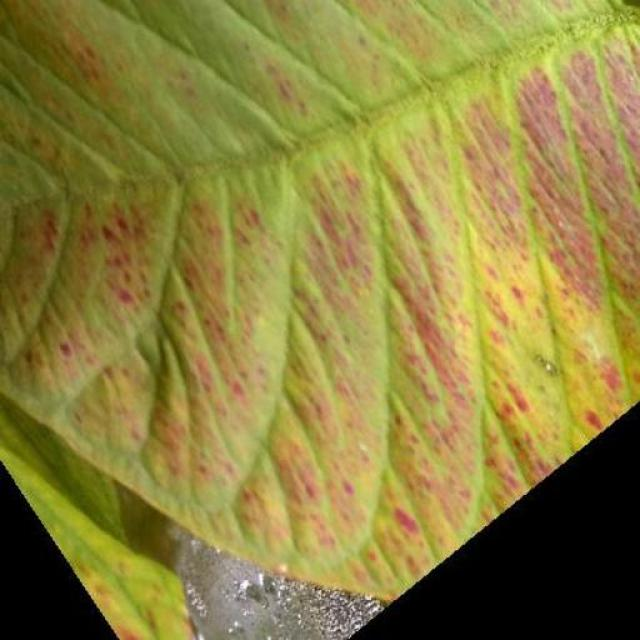Rust: (0, 0, 640, 640)
